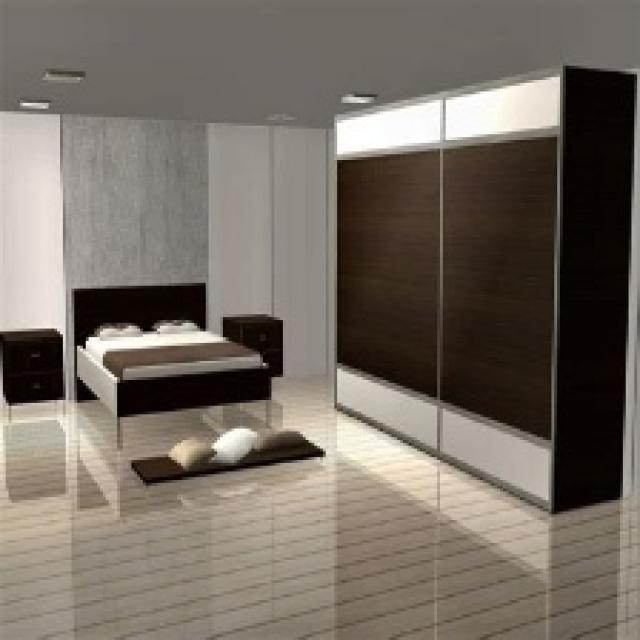Bed: (68, 280, 272, 446)
